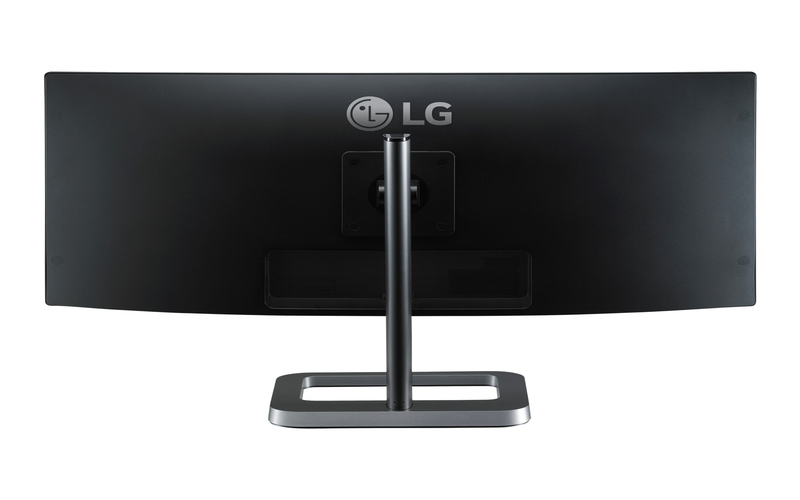LCD: (26, 36, 774, 430)
